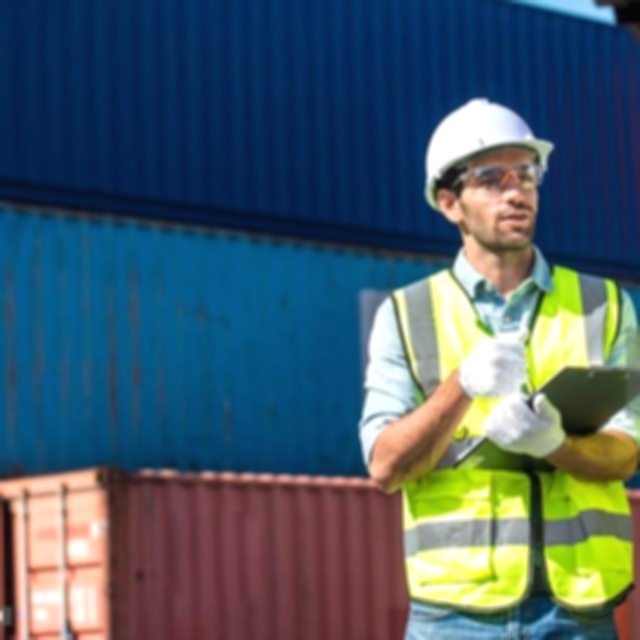Con_Casco: (422, 99, 552, 252)
Con_Chaleco: (388, 260, 635, 611)
